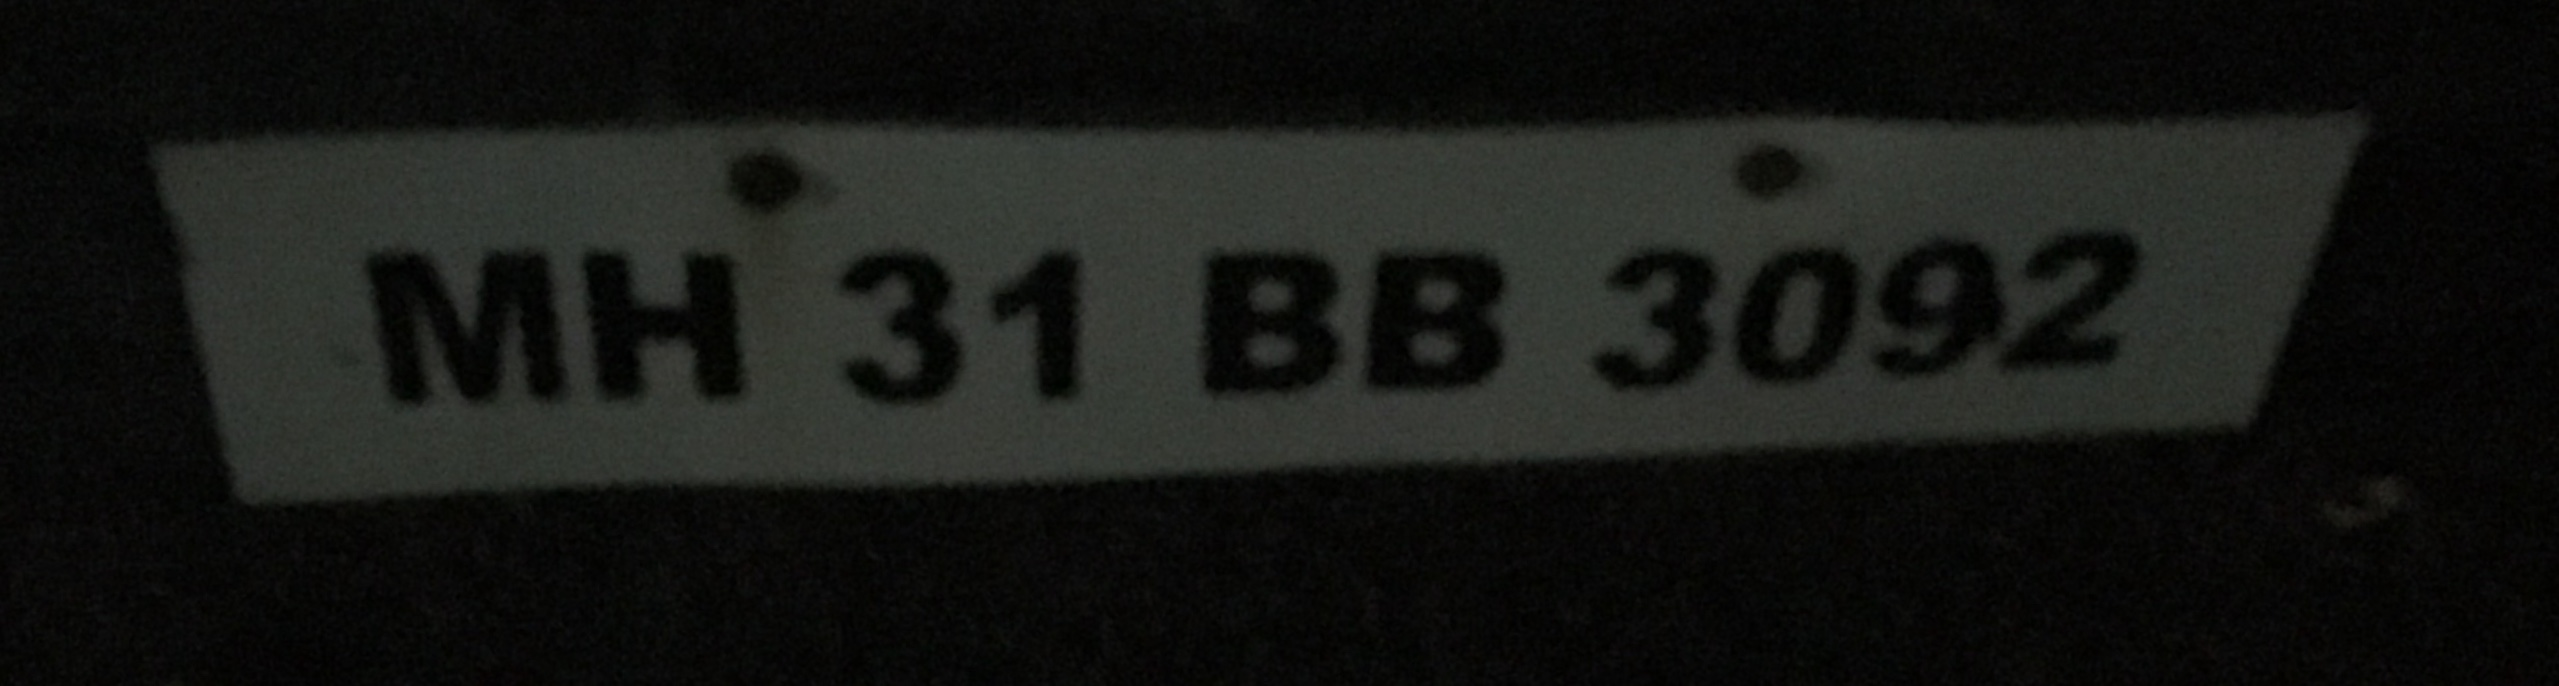numberplate: (153, 98, 2368, 510)
